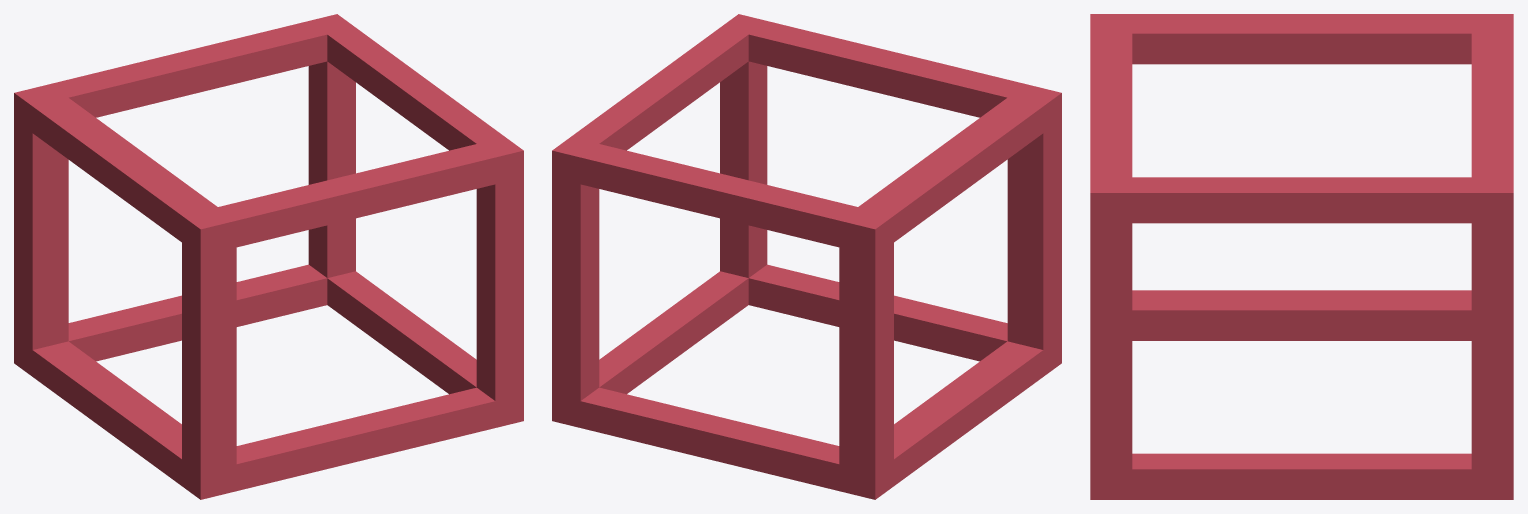
The picture shows the model from 3 angles, left to right: view 1: azimuth 30°, elevation 25°; view 2: azimuth 150°, elevation 25°; view 3: azimuth 270°, elevation 25°; orthographic projection. The views are drawn at different scales.
Parts seen in each view (by area): view 1: Mesh_Mesh_head_geo.001_lambert2SG.001; view 2: Mesh_Mesh_head_geo.001_lambert2SG.001; view 3: Mesh_Mesh_head_geo.001_lambert2SG.001.
Boxes of the visible parts, x1,y1,x2,y2 form: Mesh_Mesh_head_geo.001_lambert2SG.001: (14, 14, 523, 499); Mesh_Mesh_head_geo.001_lambert2SG.001: (552, 14, 1061, 499); Mesh_Mesh_head_geo.001_lambert2SG.001: (1090, 14, 1513, 499).
Bounding box in the file's own units: 5 × 4 × 5.
